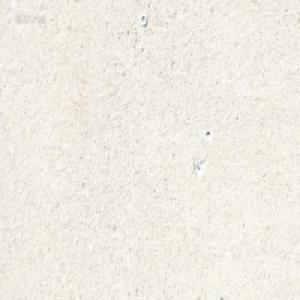Washer: (140, 12, 147, 26)
